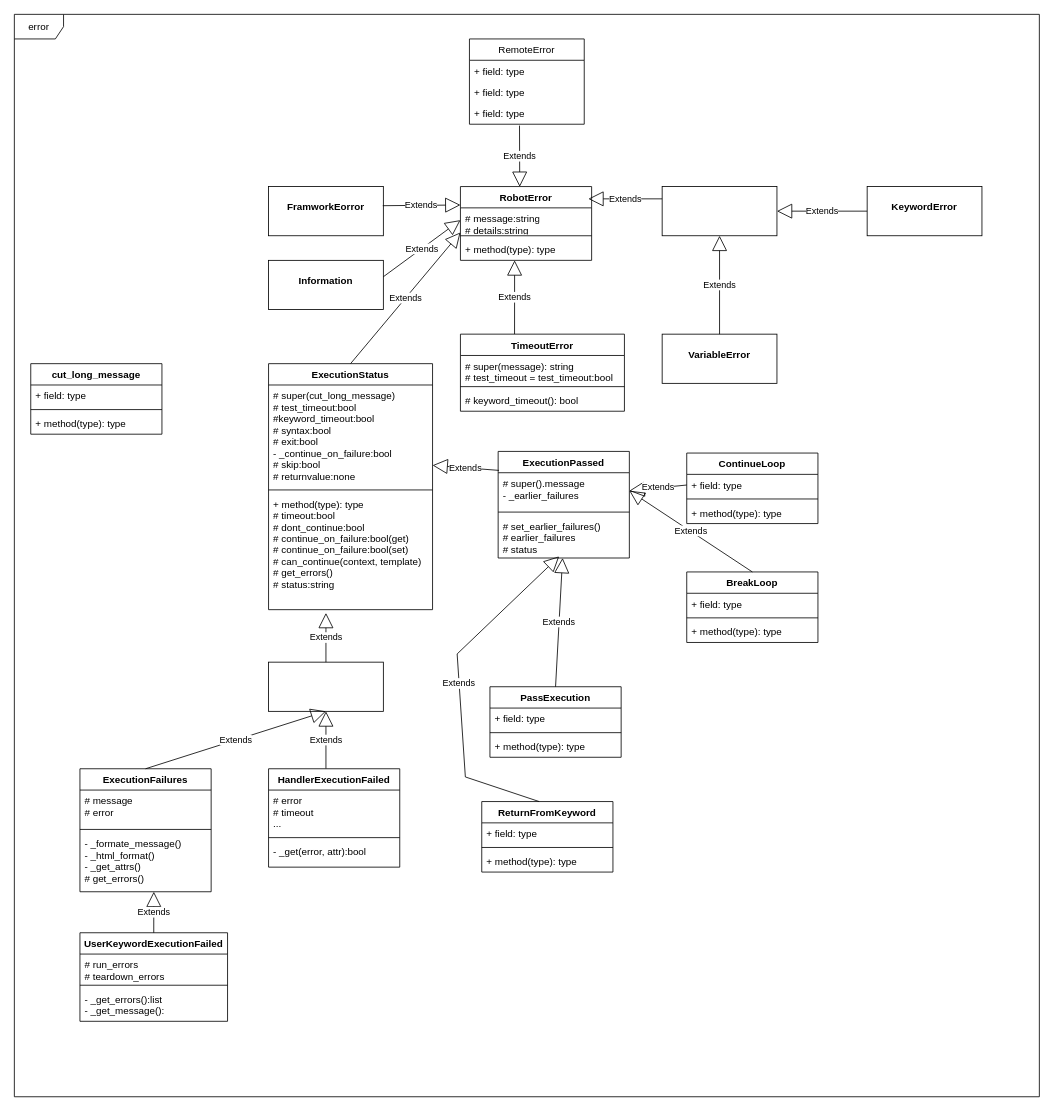
This 1054x1111 diagram has some shape labels left out. The centre of each missing label's shape, as x and y in pixels:
"DataError" belongs at point 719,211.
"ExecutionFailed" belongs at point 325,686.
